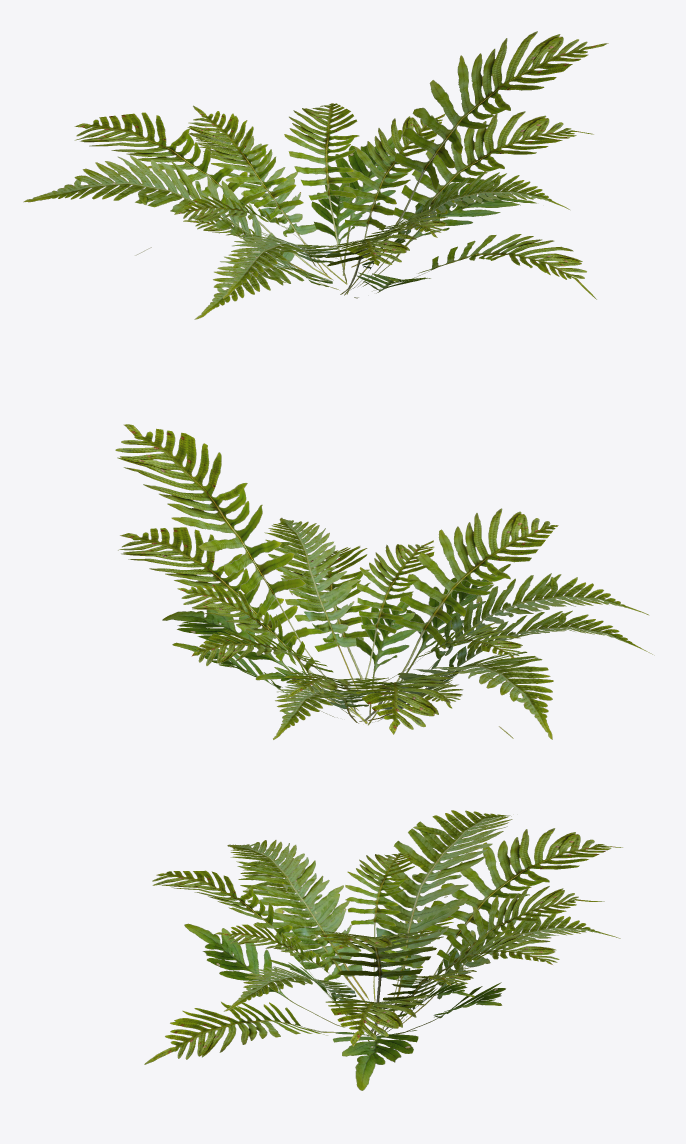
The model's file is fern.obj.
3 views of the same model, one above another, from view 1: azimuth 30°, elevation 25°; view 2: azimuth 150°, elevation 25°; view 3: azimuth 270°, elevation 25° (orthographic). The views are drawn at different scales.
Parts seen in each view (by area): view 1: Plane_Plant1_0; view 2: Plane_Plant1_0; view 3: Plane_Plant1_0.
Part boxes in pixels (bbox=[...]): Plane_Plant1_0: bbox=[23, 31, 608, 319]; Plane_Plant1_0: bbox=[115, 424, 654, 739]; Plane_Plant1_0: bbox=[144, 810, 622, 1090].
Size of the model in its own units: 1.65 by 0.5579 by 1.58.
1 material, 1 textured.
